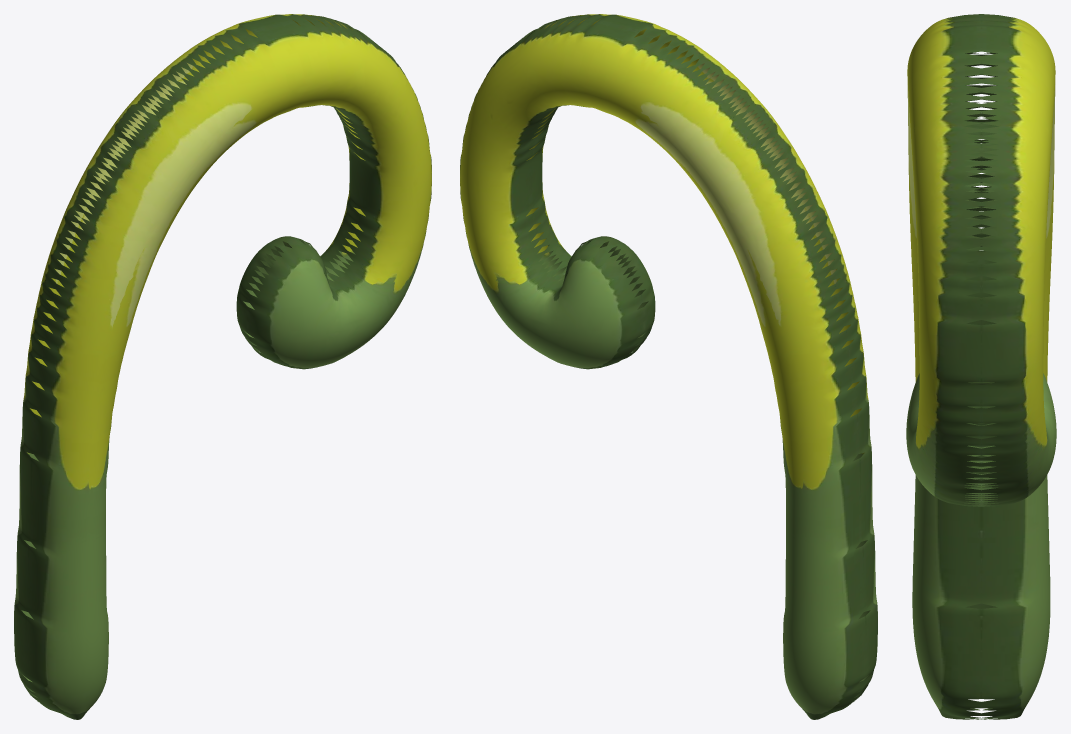
The model's file is fiddlehead_fern.glb.
The picture shows the model from 3 angles, left to right: view 1: azimuth 30°, elevation 25°; view 2: azimuth 150°, elevation 25°; view 3: azimuth 270°, elevation 25°; orthographic projection. The views are drawn at different scales.
Visible parts, largest first — view 1: fiddlehead_fern; view 2: fiddlehead_fern; view 3: fiddlehead_fern.
Boxes of the visible parts, x1,y1,x2,y2 form: fiddlehead_fern: [14, 14, 431, 719]; fiddlehead_fern: [460, 14, 877, 719]; fiddlehead_fern: [906, 14, 1056, 719].
Bounding box in the file's own units: 0.9833 × 1.5 × 0.2531.
Materials: 1 (1 with a texture image).
